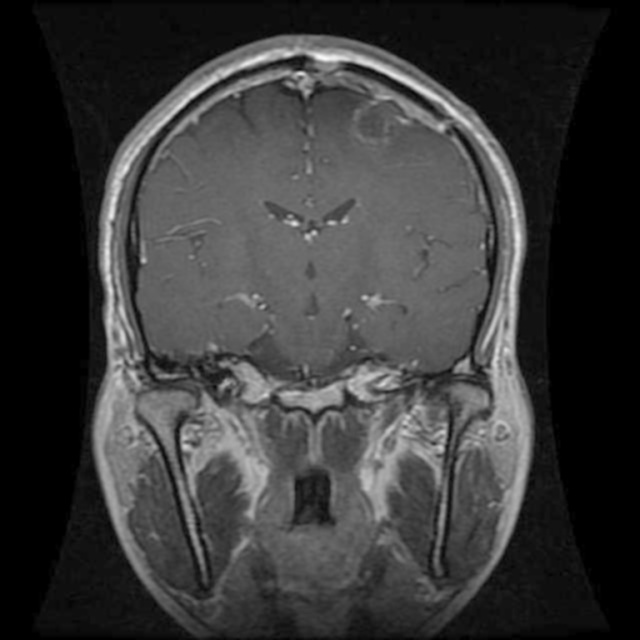pituitary tumor: (358, 100, 398, 139)
